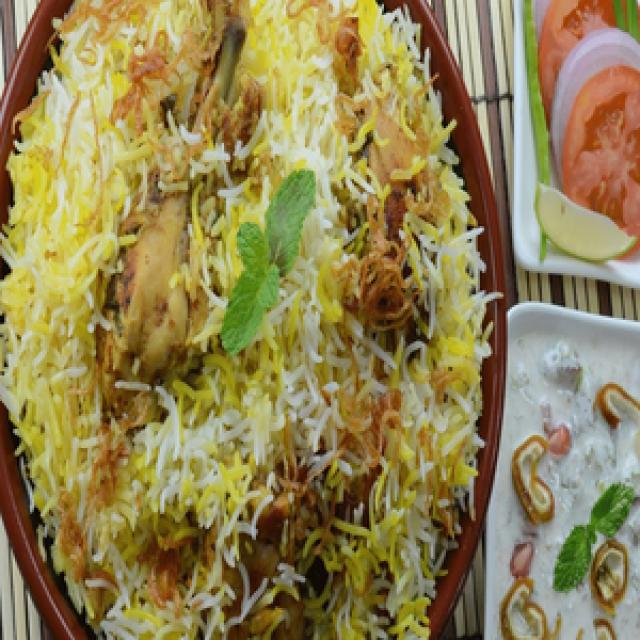chicken biriyani: (0, 0, 501, 640)
